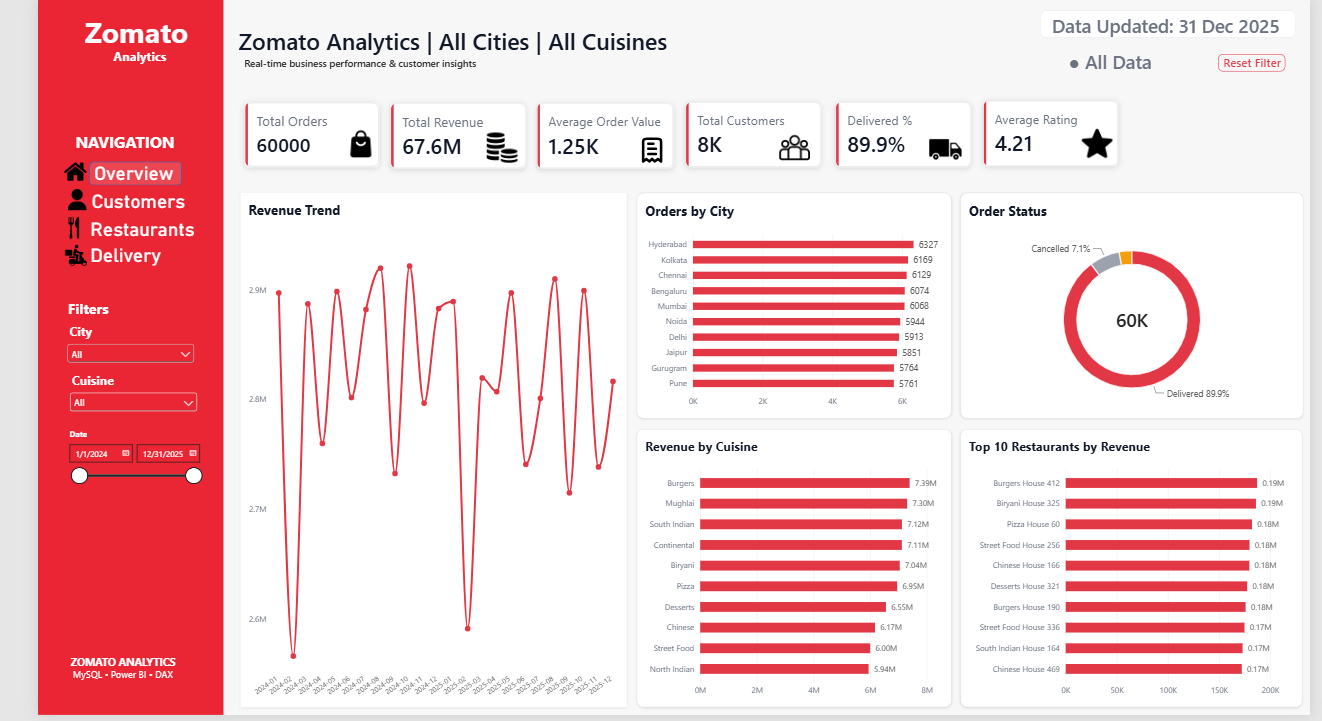

Layout of this report page (visuals, bound fields, positions):
{"tool":"powerbi","page":{"name":"Overview","canvas":[1920,1080],"ordinal":0},"visuals":[{"type":"shape","box":[1796.1,73.4,101.9,32.6],"z":0},{"type":"shape","box":[1512.7,18.3,385,42],"z":1000},{"type":"shape","box":[0,0,279.9,1080.6],"z":2000},{"type":"textbox","box":[28.8,20.6,240.8,84.4],"z":3000},{"type":"textbox","box":[28.8,74.1,251.1,70],"z":4000},{"type":"actionButton","title":"Overview","box":[84,244.6,125,36],"z":5000},{"type":"cardVisual","fields":{"Data":["Customers.Total Orders"]},"box":[311.9,154.9,205,100],"z":6000},{"type":"cardVisual","fields":{"Data":["Customers.Total Revenue"]},"box":[532.1,157,205,100],"z":7000},{"type":"cardVisual","fields":{"Data":["Customers.Average Order Value"]},"box":[752.3,157,207,100],"z":8000},{"type":"cardVisual","fields":{"Data":["Customers.Total Customers"]},"box":[976.5,154.9,205,100],"z":9000},{"type":"cardVisual","fields":{"Data":["Customers.Delivered %"]},"box":[1203,154,205,100],"z":10000},{"type":"cardVisual","fields":{"Data":["Customers.Average Rating"]},"box":[1427.1,152.9,205,100],"z":11000},{"type":"lineChart","title":"Revenue Trend","fields":{"Category":["Dim_Date.Year_Month"],"Y":["Customers.Total Revenue"]},"box":[305.8,291.5,583.1,776.7],"z":12000},{"type":"clusteredBarChart","title":"Orders by City","fields":{"Category":["Customers.City"],"Y":["Customers.Total Orders"]},"box":[903.1,291.5,475,340.5],"z":13000},{"type":"donutChart","title":"Order Status","fields":{"Category":["Orders.Order_Status"],"Y":["Customers.Total Orders"]},"box":[1392.4,291.5,517.8,340.5],"z":14000},{"type":"clusteredBarChart","title":"Top 10 Restaurants by Revenue","fields":{"Category":["Restaurants.Restaurant_Name"],"Y":["Customers.Total Revenue"]},"box":[1392.4,648.3,515.8,420],"z":15000},{"type":"clusteredBarChart","title":"Revenue by Cuisine","fields":{"Category":["Restaurants.Cuisine"],"Y":["Customers.Total Revenue"]},"box":[903.1,648.3,475,420],"z":16000},{"type":"slicer","title":"Date","fields":{"Values":["Dim_Date.Date"]},"box":[38.7,648.3,212,90],"z":17000},{"type":"slicer","fields":{"Values":["Dim_Cit.City"]},"box":[38.7,489.3,201,69],"z":18000},{"type":"slicer","fields":{"Values":["Restaurants.Cuisine"]},"box":[42.8,562.7,201.8,69.3],"z":19000},{"type":"actionButton","title":"Customers","box":[81.5,288,159,34],"z":20000},{"type":"actionButton","title":"Delivery","box":[79.5,369,142.7,38.7],"z":21000},{"type":"actionButton","title":"Restaurants","box":[80,330.3,161.1,38.7],"z":22000},{"type":"cardVisual","fields":{"Data":["Customers.Overview Page Title"]},"box":[287.5,4.1,719.6,116.2],"z":23000},{"type":"cardVisual","fields":{"Data":["Customers.Latest Data Date"]},"box":[1512.7,16.3,385.3,42.8],"z":24000},{"type":"actionButton","box":[976.5,159,205,100],"z":25000},{"type":"actionButton","box":[1473.9,104,205,100],"z":26000},{"type":"shape","box":[77.5,244.6,140,36],"z":27000},{"type":"textbox","box":[57.1,200,161.1,38.7],"z":28000},{"type":"textbox","box":[311.9,87.7,364.9,22.4],"z":29000},{"type":"actionButton","title":"Reset Filter","box":[1781.8,83.6,101.9,26.5],"z":30000},{"type":"textbox","box":[48.9,988.7,205.9,79.5],"z":31000},{"type":"image","box":[465,189.6,46,60],"z":32000},{"type":"image","box":[676.8,193.7,46,60],"z":33000},{"type":"image","box":[903.1,197.7,46,60],"z":34000},{"type":"image","box":[1119.2,195,46,60],"z":35000},{"type":"image","box":[1345.5,196,49,62],"z":36000},{"type":"image","box":[1575.9,189.6,46,58],"z":37000},{"type":"image","box":[33,243,48.9,34],"z":38000},{"type":"image","box":[35,286,46,32],"z":39000},{"type":"image","box":[36.7,328.2,36,34],"z":40000},{"type":"image","box":[38.7,369,36,34],"z":41000},{"type":"cardVisual","fields":{"Data":["Customers.Filter Status"]},"box":[1539.2,59.1,256.9,71.4],"z":42000},{"type":"textbox","box":[45,452,83.6,57.1],"z":43000}]}

Visuals, with their boxes on the page's 1920x1080 design canvas (x1, y1, x2, y2). These are canvas units, not pixel positions in the 1322x721 screenshot, which may show the page scaled, cropped or inside an application window:
shape: box=[1796, 73, 1898, 106]
shape: box=[1513, 18, 1898, 60]
shape: box=[0, 0, 280, 1081]
textbox: box=[29, 21, 270, 105]
textbox: box=[29, 74, 280, 144]
"Overview" actionButton: box=[84, 245, 209, 281]
cardVisual - Customers.Total Orders: box=[312, 155, 517, 255]
cardVisual - Customers.Total Revenue: box=[532, 157, 737, 257]
cardVisual - Customers.Average Order Value: box=[752, 157, 959, 257]
cardVisual - Customers.Total Customers: box=[976, 155, 1182, 255]
cardVisual - Customers.Delivered %: box=[1203, 154, 1408, 254]
cardVisual - Customers.Average Rating: box=[1427, 153, 1632, 253]
"Revenue Trend" lineChart: box=[306, 292, 889, 1068]
"Orders by City" clusteredBarChart: box=[903, 292, 1378, 632]
"Order Status" donutChart: box=[1392, 292, 1910, 632]
"Top 10 Restaurants by Revenue" clusteredBarChart: box=[1392, 648, 1908, 1068]
"Revenue by Cuisine" clusteredBarChart: box=[903, 648, 1378, 1068]
"Date" slicer: box=[39, 648, 251, 738]
slicer - Dim_Cit.City: box=[39, 489, 240, 558]
slicer - Restaurants.Cuisine: box=[43, 563, 245, 632]
"Customers" actionButton: box=[82, 288, 240, 322]
"Delivery" actionButton: box=[80, 369, 222, 408]
"Restaurants" actionButton: box=[80, 330, 241, 369]
cardVisual - Customers.Overview Page Title: box=[288, 4, 1007, 120]
cardVisual - Customers.Latest Data Date: box=[1513, 16, 1898, 59]
actionButton: box=[976, 159, 1182, 259]
actionButton: box=[1474, 104, 1679, 204]
shape: box=[78, 245, 218, 281]
textbox: box=[57, 200, 218, 239]
textbox: box=[312, 88, 677, 110]
"Reset Filter" actionButton: box=[1782, 84, 1884, 110]
textbox: box=[49, 989, 255, 1068]
image: box=[465, 190, 511, 250]
image: box=[677, 194, 723, 254]
image: box=[903, 198, 949, 258]
image: box=[1119, 195, 1165, 255]
image: box=[1346, 196, 1394, 258]
image: box=[1576, 190, 1622, 248]
image: box=[33, 243, 82, 277]
image: box=[35, 286, 81, 318]
image: box=[37, 328, 73, 362]
image: box=[39, 369, 75, 403]
cardVisual - Customers.Filter Status: box=[1539, 59, 1796, 130]
textbox: box=[45, 452, 129, 509]
